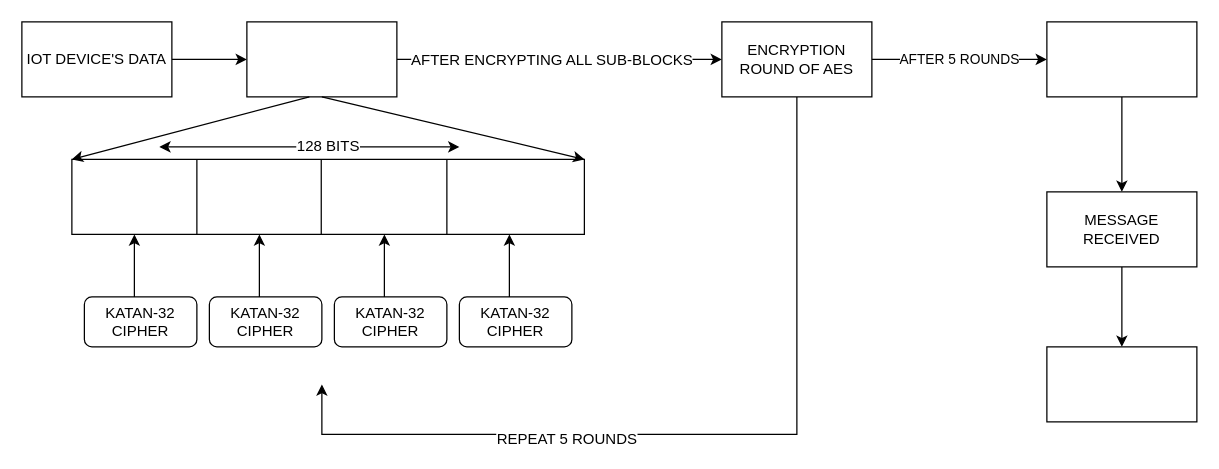
Some shapes in this 1219 by 469 pixel diagram are drawn without their labels. The centre of each missing label's shape, as x and y in pixels:
"32 BITS 32 BITS 32 BITS 32 BITS" belongs at point (327, 196).
"DECRYPTION" belongs at point (1121, 384).
"ENCRYPTION LAYER USING KATAN-32" belongs at point (321, 59).
"TRANSMISSION OF ENCRYPTED DATA" belongs at point (1121, 59).
